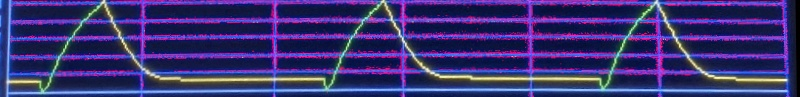leakage: (0, 0, 781, 97)
